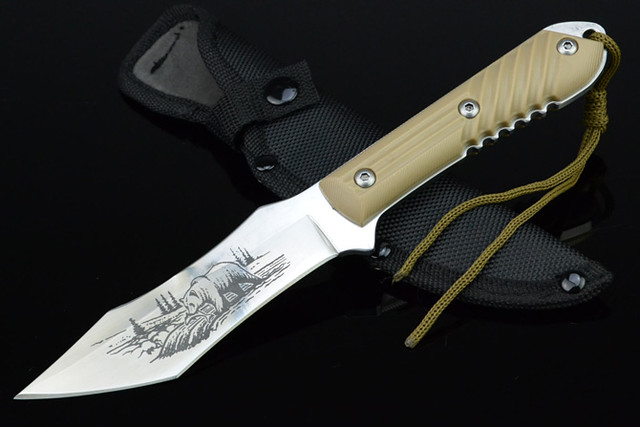knife: (12, 17, 617, 405)
